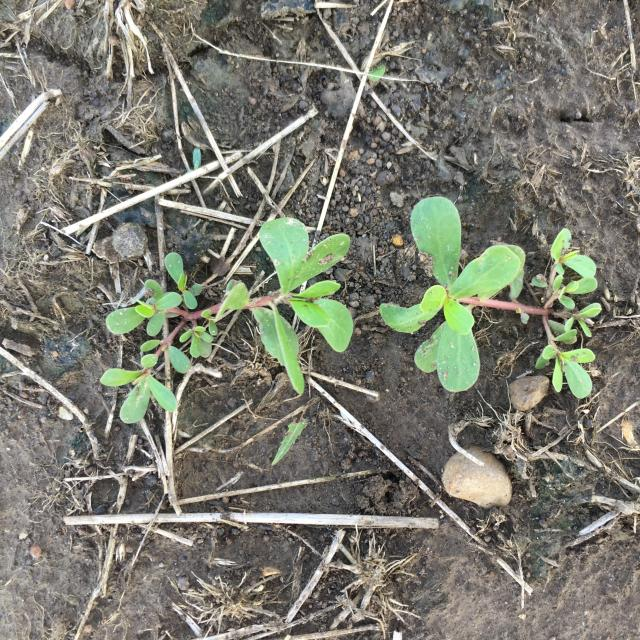Purslane: (101, 217, 353, 424), (380, 197, 601, 399)
